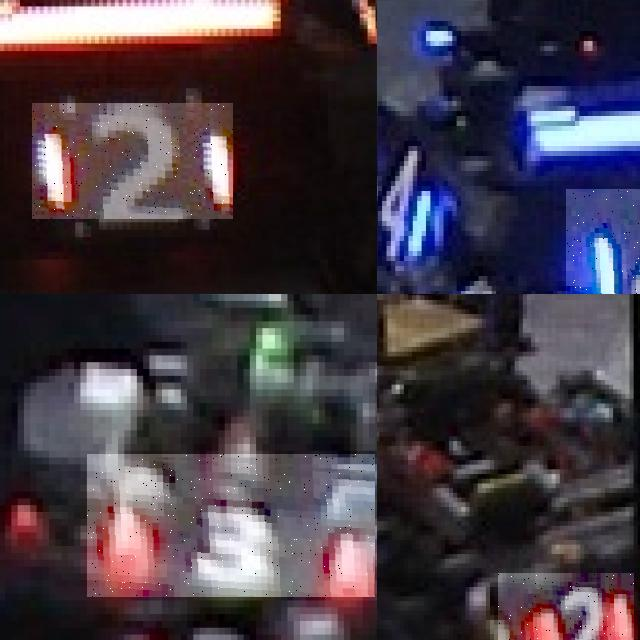B4: (377, 118, 432, 263), (566, 188, 640, 294)
R2: (32, 103, 233, 219), (498, 573, 633, 640)
R3: (87, 454, 375, 597), (86, 607, 312, 640)
